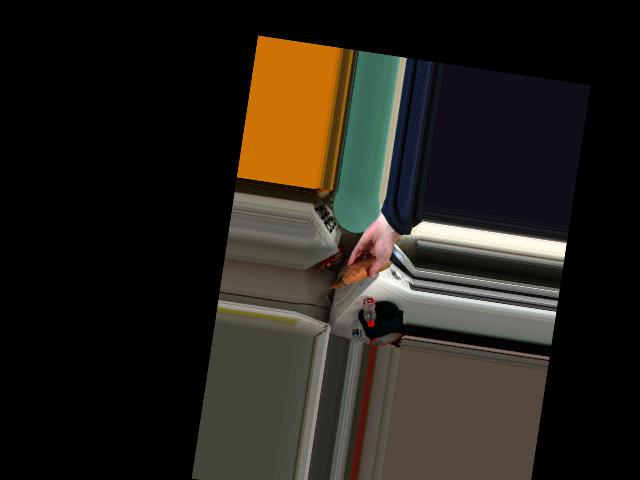sweet_potato: (345, 253, 381, 289)
